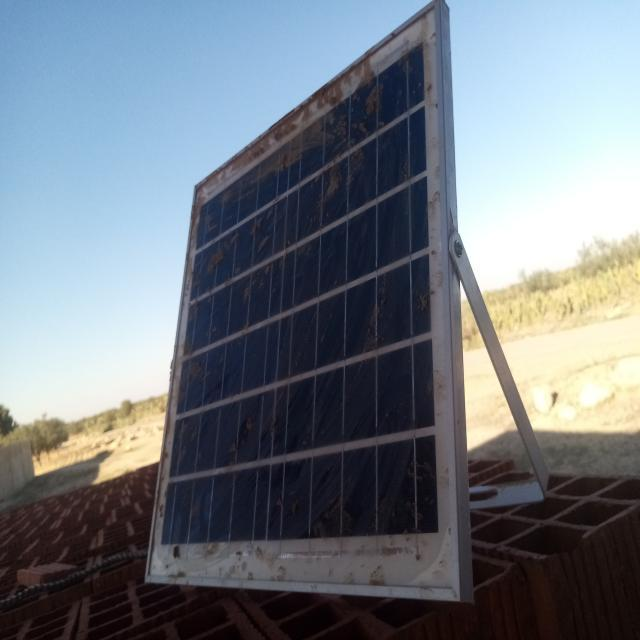faulty: (146, 2, 457, 599)
